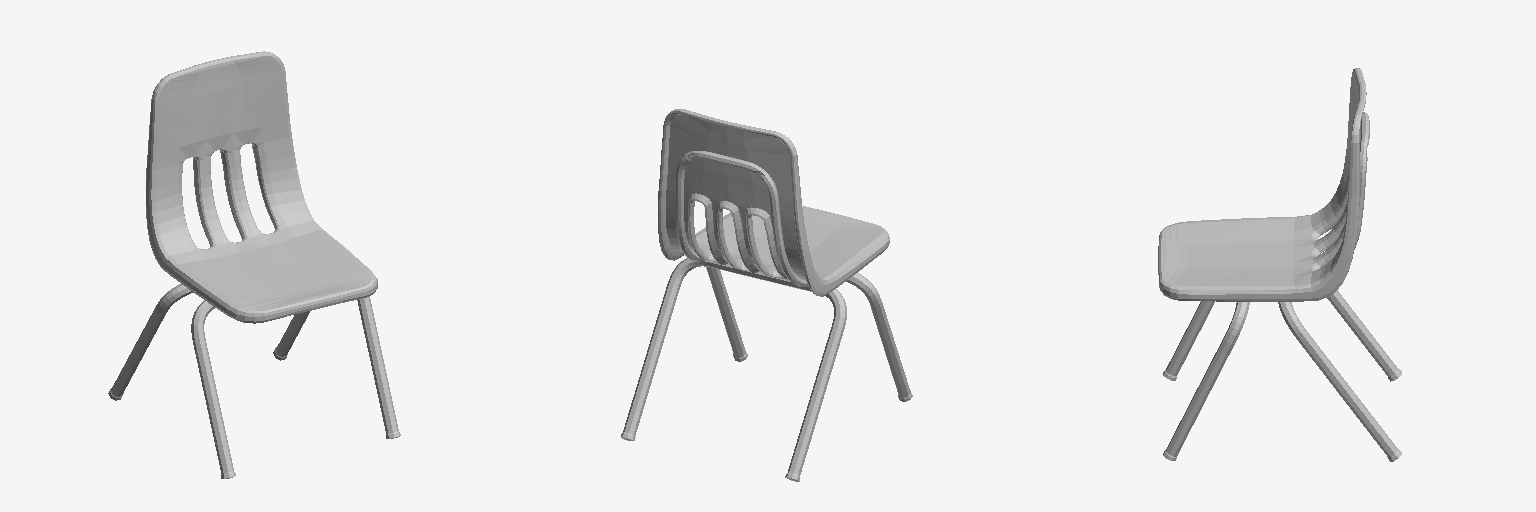
File: SchoolChair_01.obj
3 renders of one model, left to right at view 1: azimuth 30°, elevation 25°; view 2: azimuth 150°, elevation 25°; view 3: azimuth 270°, elevation 25°, orthographic.
Visible parts, largest first — view 1: SchoolChair_01_Mesh; view 2: SchoolChair_01_Mesh; view 3: SchoolChair_01_Mesh.
Part boxes in pixels (bbox=[...]): SchoolChair_01_Mesh: bbox=[108, 51, 400, 478]; SchoolChair_01_Mesh: bbox=[621, 109, 912, 481]; SchoolChair_01_Mesh: bbox=[1158, 68, 1401, 461].
Bounding box in the file's own units: 0.5659 × 1.01 × 0.6753.